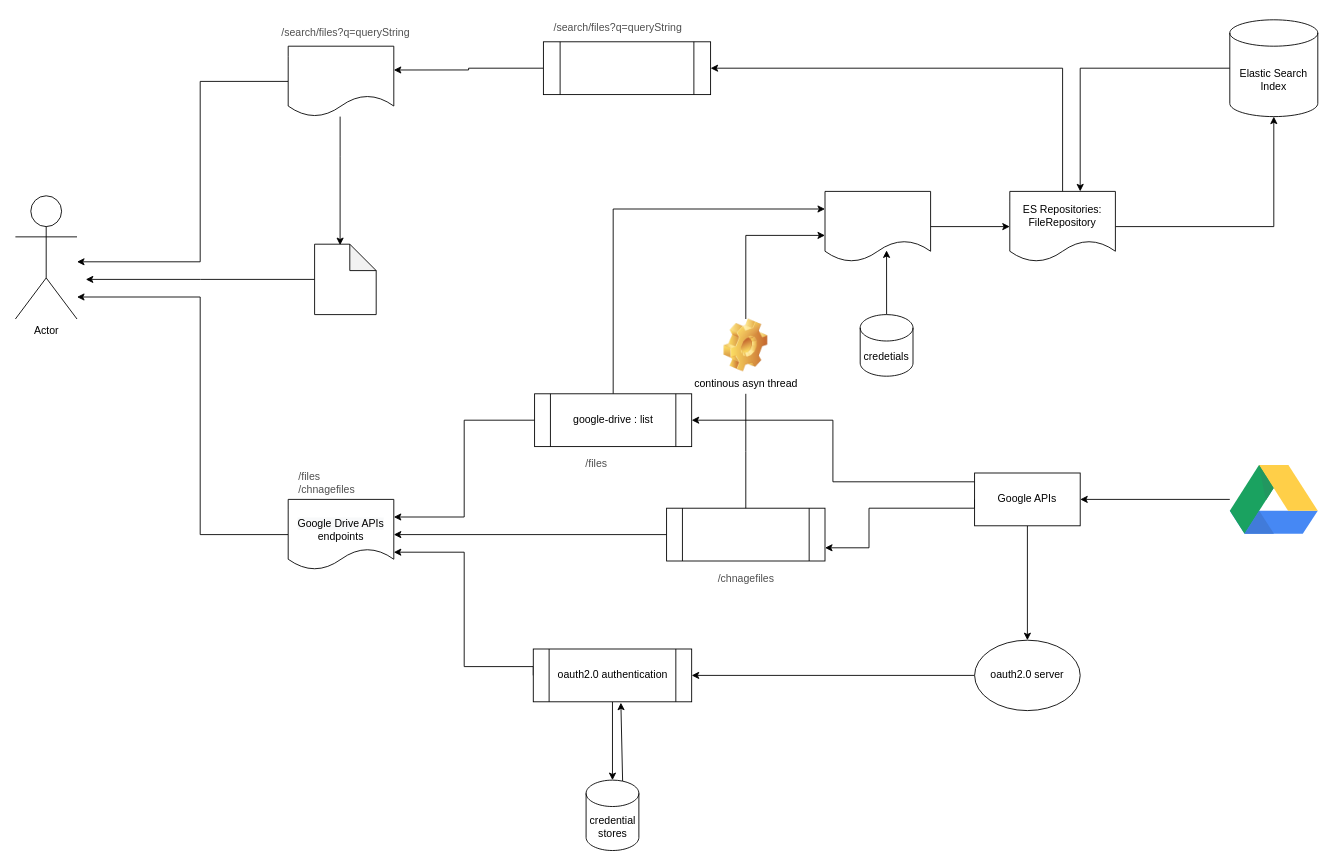
Some shapes in this 1333 by 866 pixel diagram are drawn without their labels. The centre of each missing label's shape, as x and y in pixels:
Adobe Extract APIs: [877,226]
elastic-search: search: [627,68]
ES search APIs endpoints: [340,81]
google-drive : change: [745,534]
UI: [345,279]
